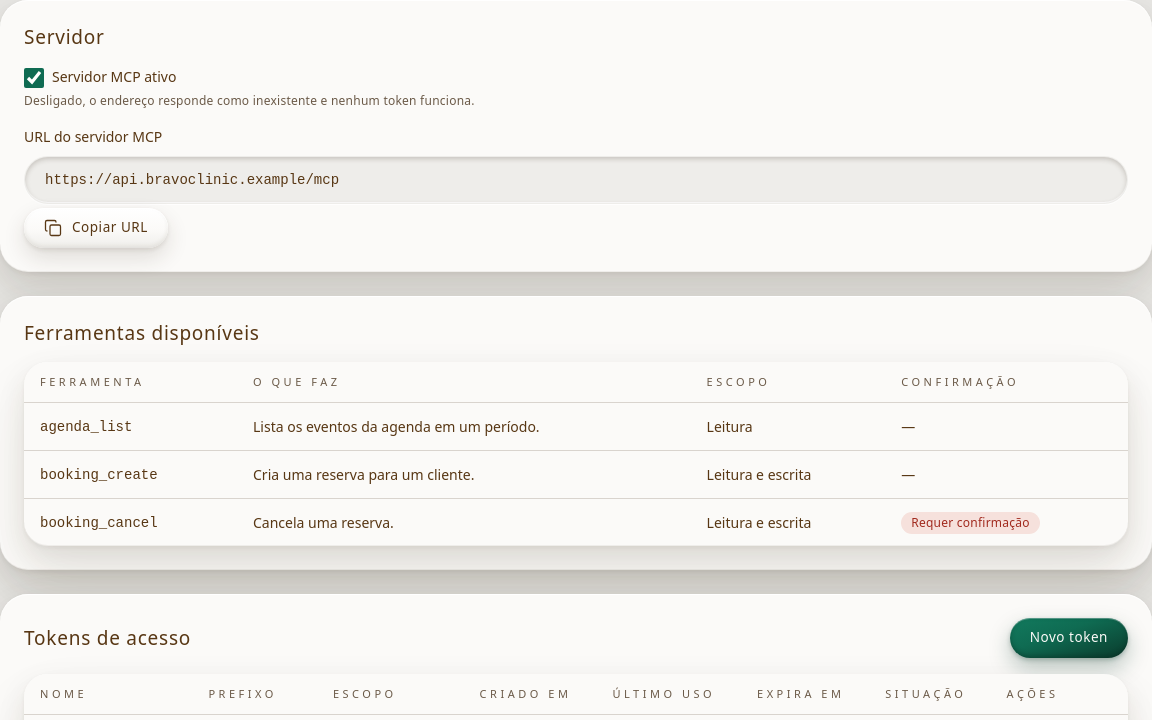
Test: McpTab tokens (GES-53, GES-54) › validates the name with the core message and creates nothing
Check: the table named "Ferramentas do servidor MCP" is shown, box [24,362,1128,546]
Click the button "Novo token": (1069, 638) [1010,618,1128,658]
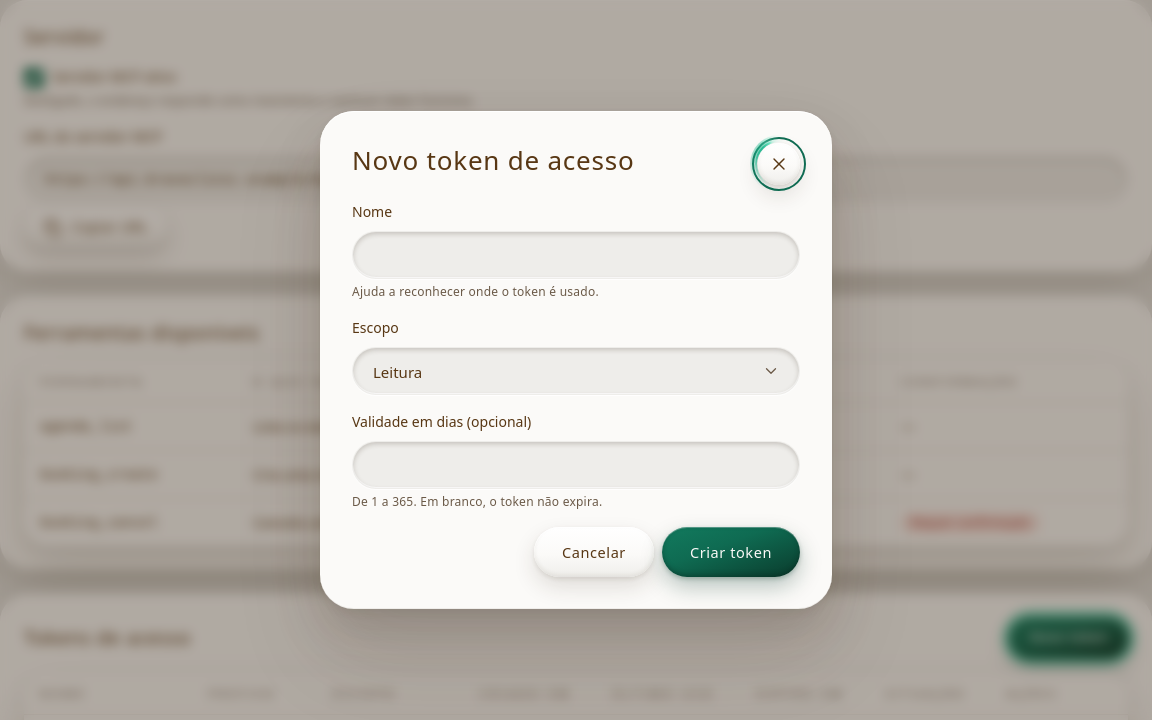
Click the button "Criar token": (731, 552) [662,527,800,577]
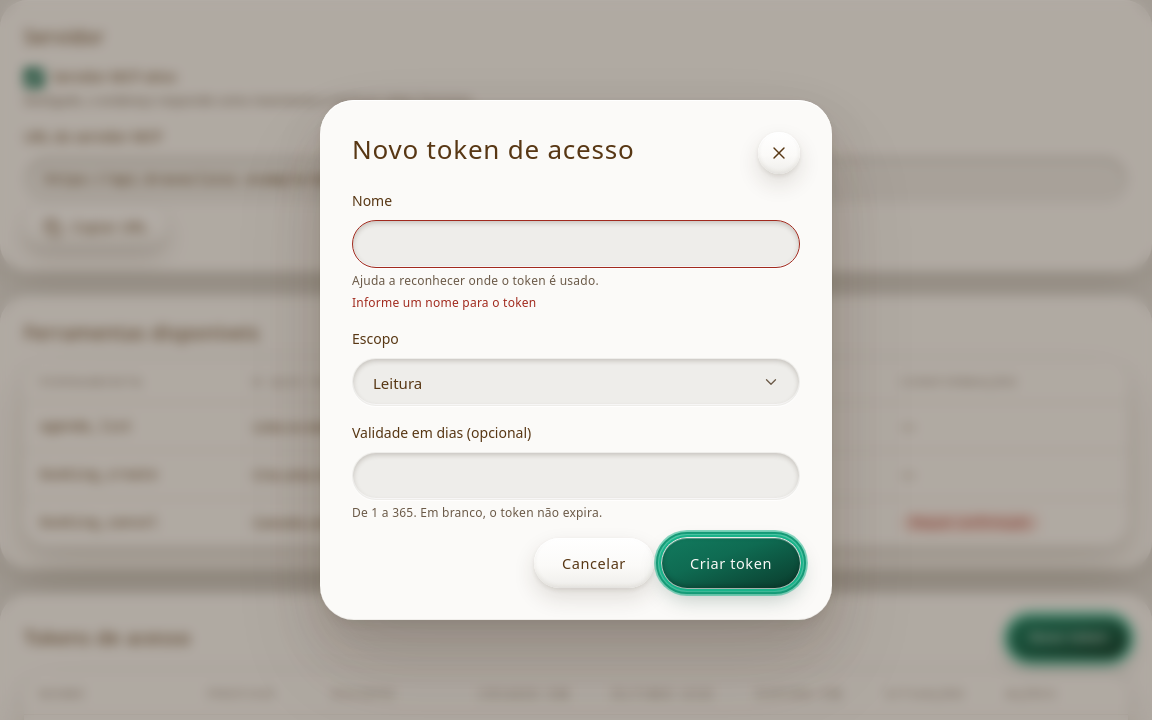
Check: the text "Informe um nome para o token" is shown, box [352,294,536,311]
